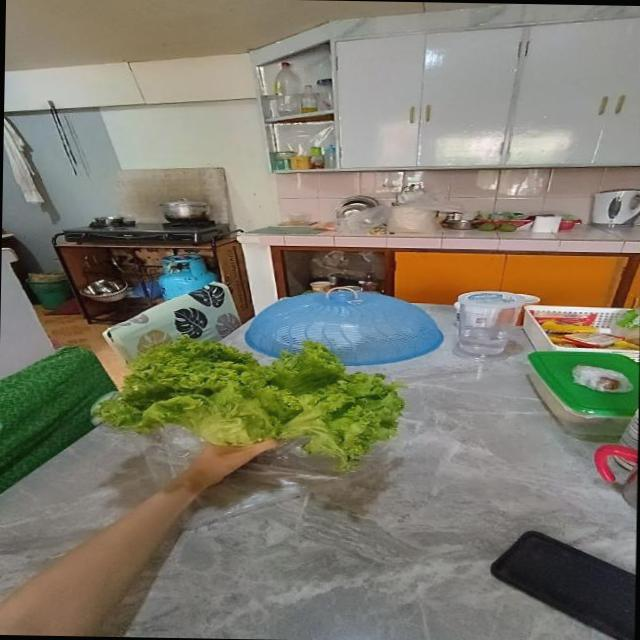Lettuce-Ready-to-Harvest: (95, 338, 404, 467)
